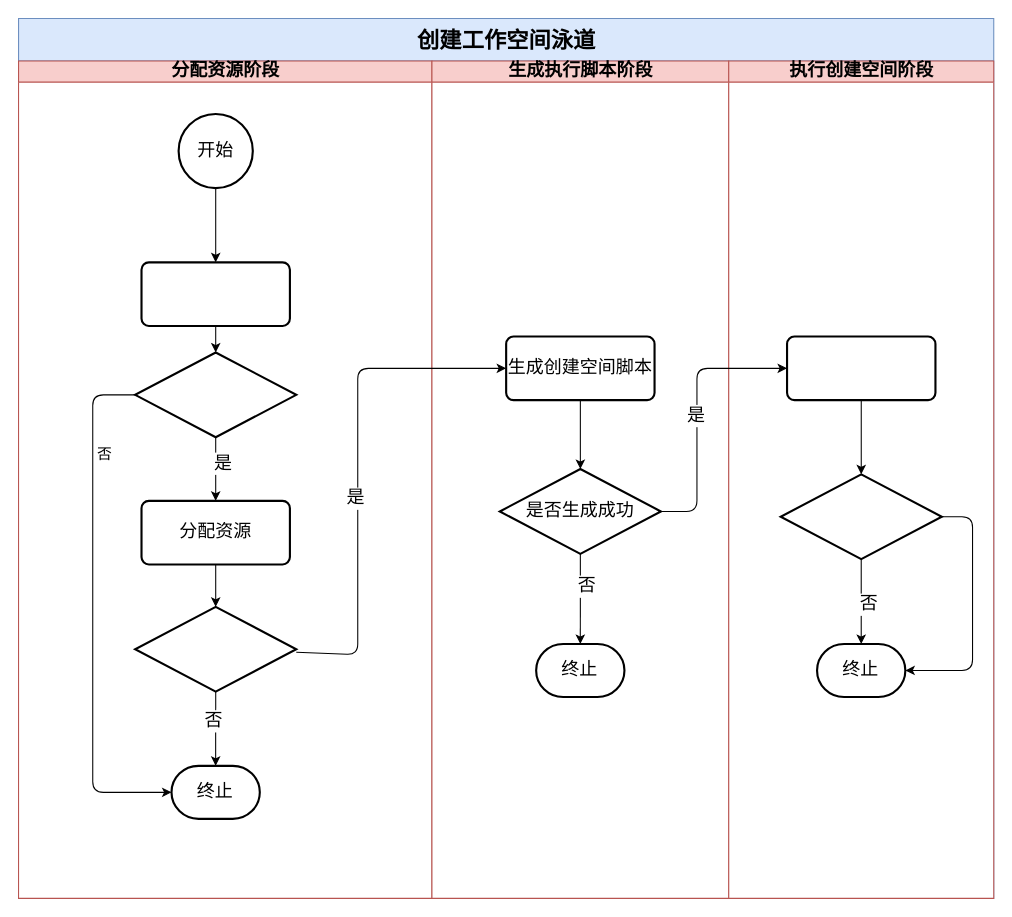
This 1012x917 diagram has some shape labels left out. Each missing label, with the centre of its shape:
"执行创建空间" belongs at pixel 860 368.
"是否分配成功" belongs at pixel 215 648.
"是否执行成功" belongs at pixel 860 516.
"检查系统是否有足够的系统资源" belongs at pixel 215 293.
"资源是否充足" belongs at pixel 215 394.
